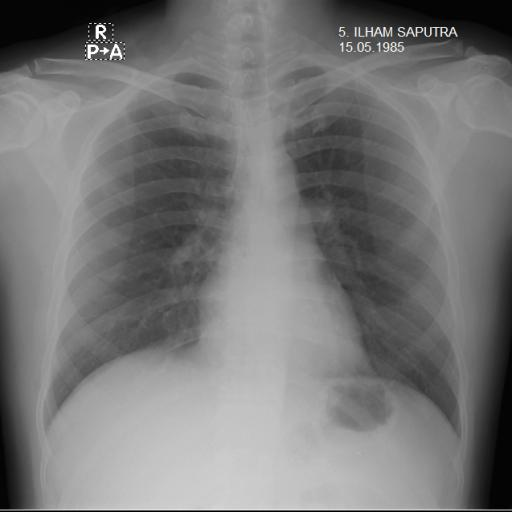normal: (24, 32, 485, 454)
